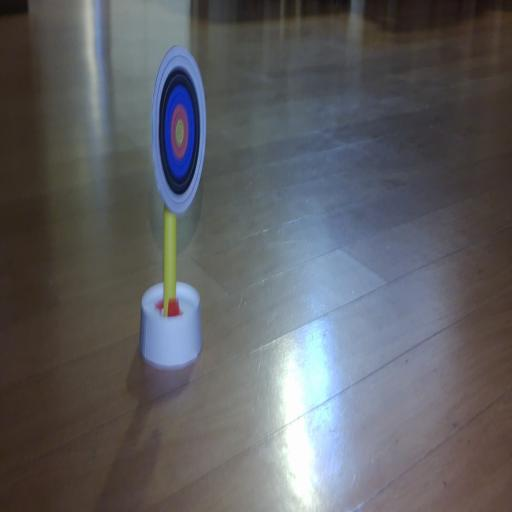target: (152, 46, 206, 215)
